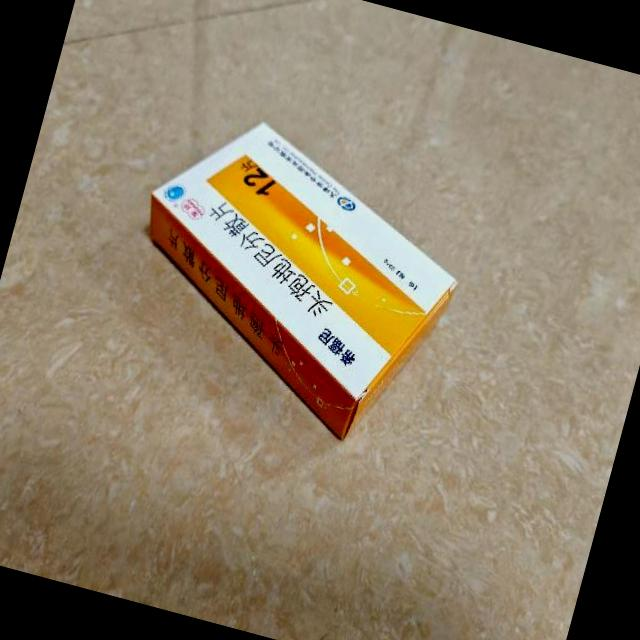box: (101, 98, 484, 461)
